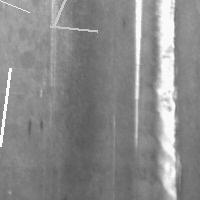scratches: (149, 1, 182, 199), (129, 1, 144, 150), (0, 63, 15, 151), (49, 0, 91, 30), (45, 21, 102, 36), (0, 0, 34, 17)
